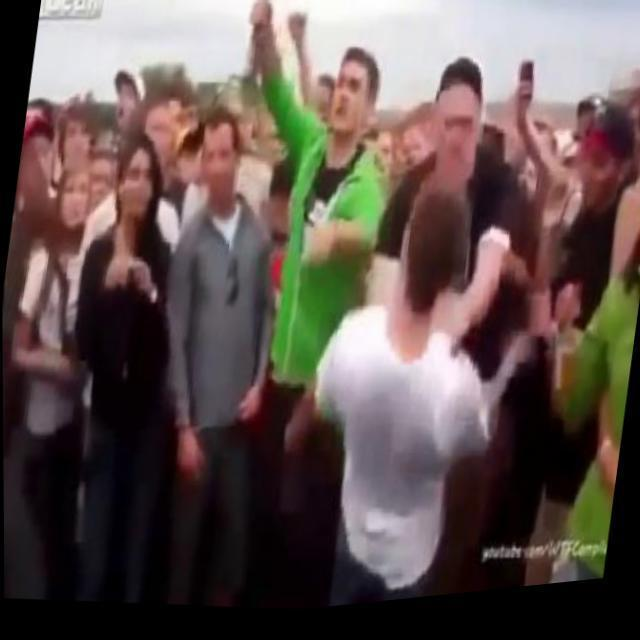fight: (286, 39, 566, 580)
